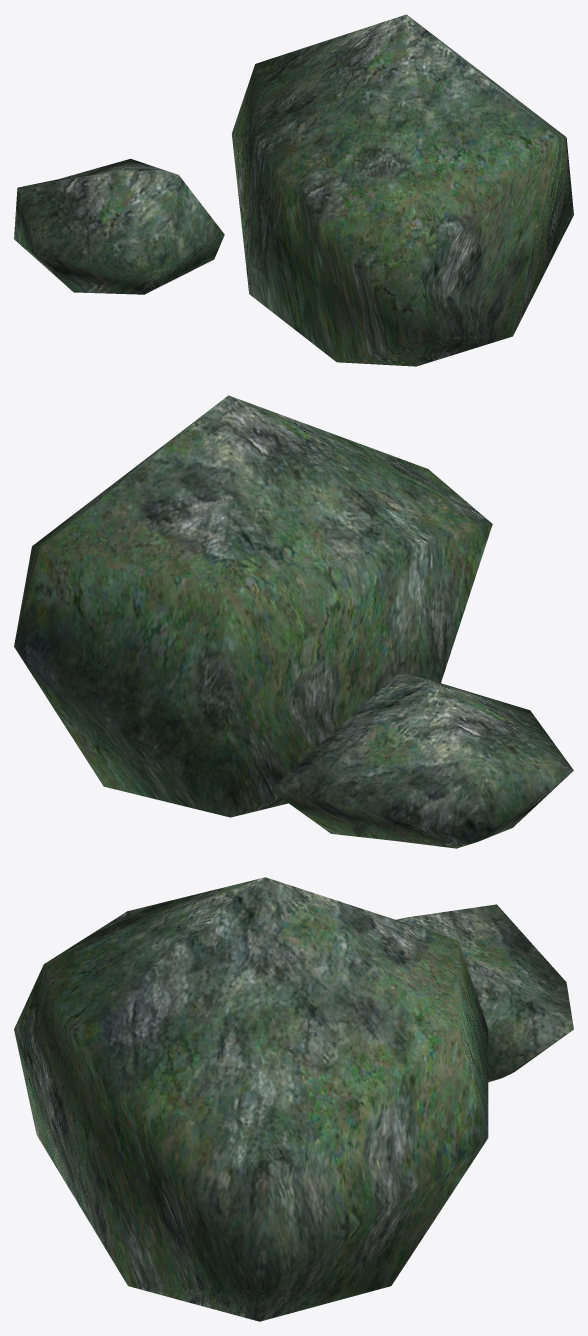
Rendered from rock_moss_blue_l1.fbx.
3 views of the same model, one above another, from view 1: azimuth 30°, elevation 25°; view 2: azimuth 150°, elevation 25°; view 3: azimuth 270°, elevation 25° (orthographic). The views are drawn at different scales.
Visible parts, largest first — view 1: mesh_node; view 2: mesh_node; view 3: mesh_node.
Boxes of the visible parts, x1,y1,x2,y2 form: mesh_node: [14, 14, 573, 366]; mesh_node: [14, 395, 573, 848]; mesh_node: [14, 877, 573, 1321].
Size of the model in its own units: 10.54 by 6.06 by 8.17.
Materials: 1 (1 with a texture image).
